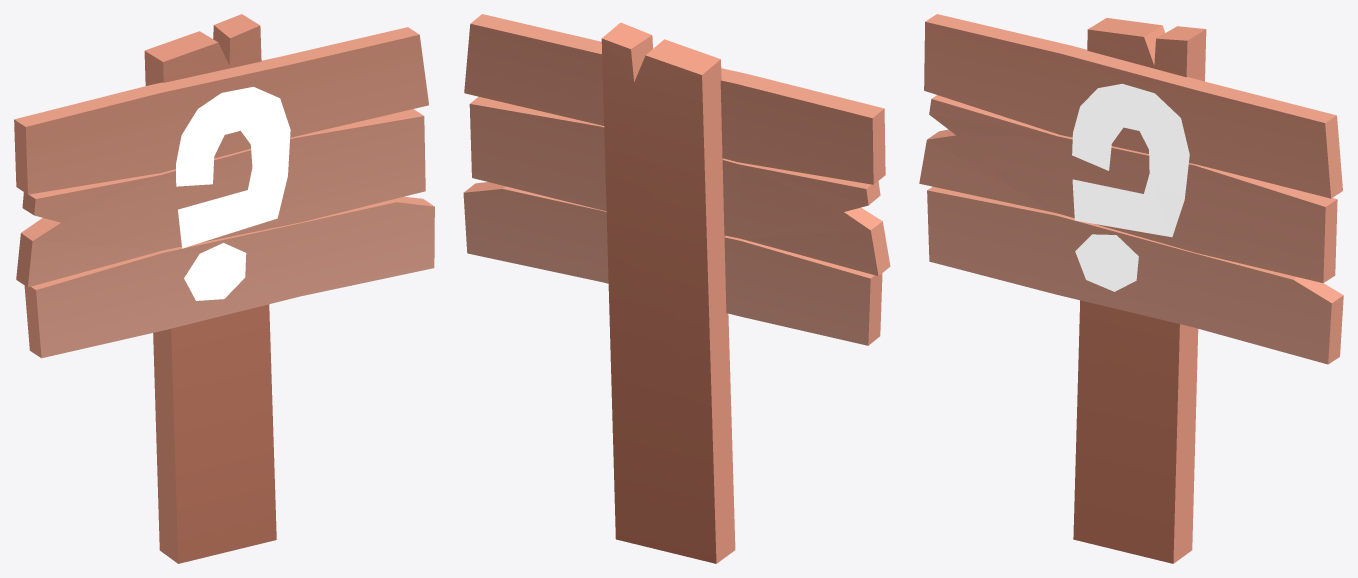
Rendered from indicator_003.glb.
3 renders of one model, left to right at view 1: azimuth 30°, elevation 25°; view 2: azimuth 150°, elevation 25°; view 3: azimuth 330°, elevation 25°, orthographic. The views are drawn at different scales.
Visible parts, largest first — view 1: indicator_003; view 2: indicator_003; view 3: indicator_003.
Boxes of the visible parts, x1=… form: indicator_003: x1=14, y1=14, x2=434, y2=563; indicator_003: x1=463, y1=14, x2=890, y2=563; indicator_003: x1=919, y1=14, x2=1343, y2=563.
Size of the model in its own units: 1.19 by 1.41 by 0.1853.
1 material, 1 textured.
